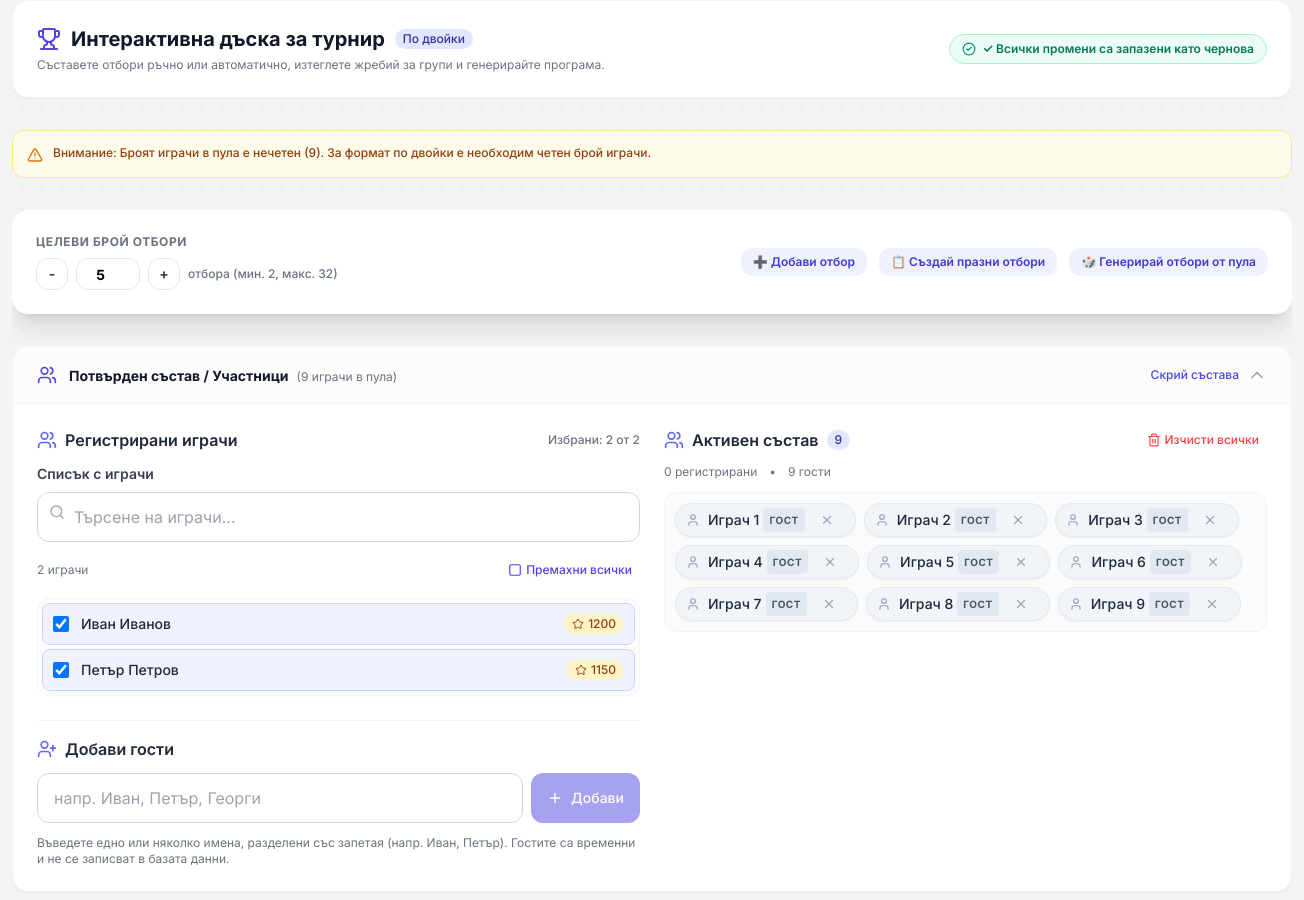
Scenario: TournamentInteractiveBoard Component › Universal Mathematical Validation & Auto-Adjustment › P = 9, T = 5 (Case 4): generates 5 teams with 1 team having 1 slot, draw groups prunes to 4 teams and auto-assigns group with adjustment banner
What coordinates should you click on to do the following:
click the button "🎲 Генерирай отбори от пула"
I would click on:
 (1169, 262)
Its box is [1069,248,1268,276].
(page scrolled)
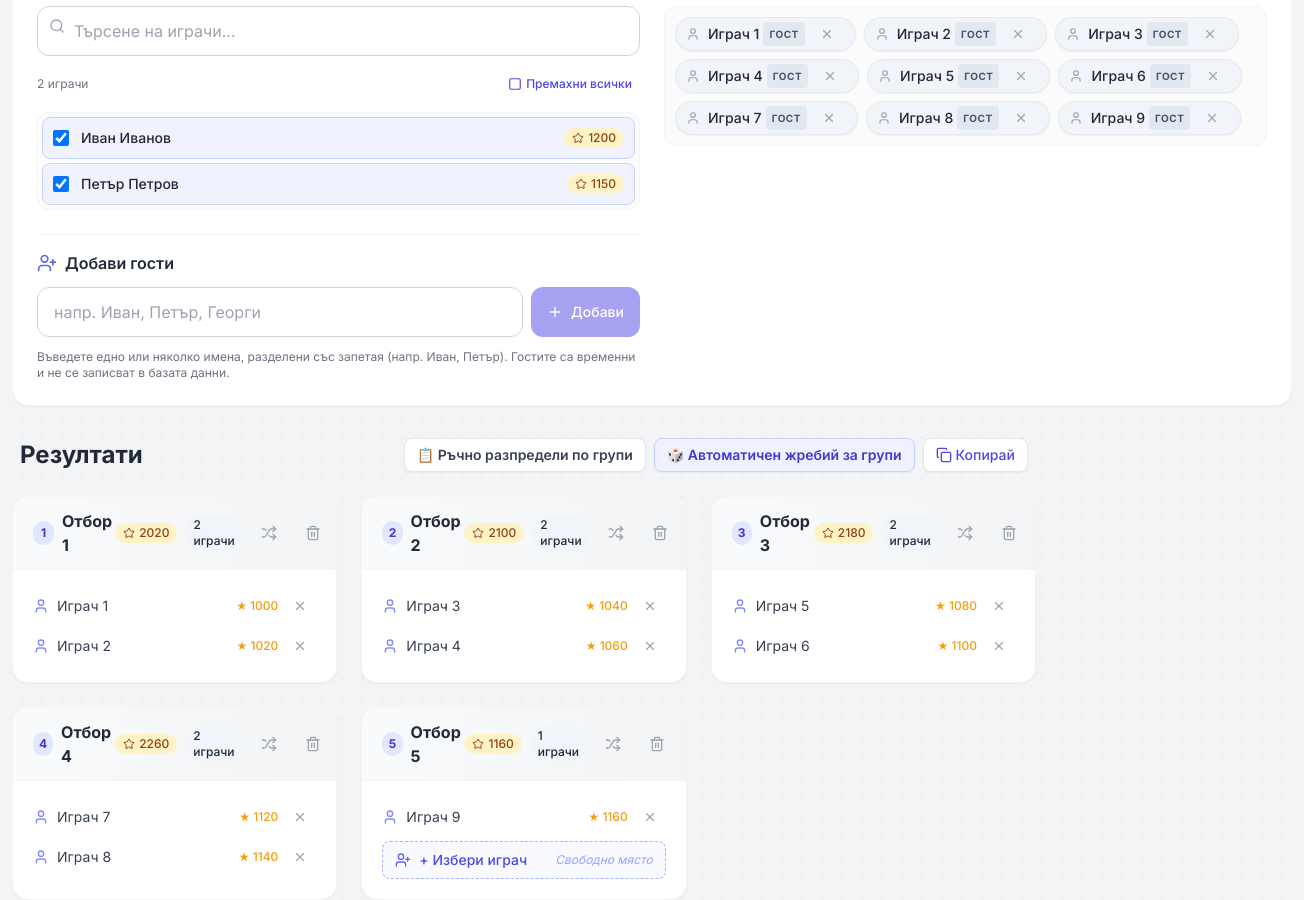
Expected: the heading "5 Отбор 5" is shown, [382,720,464,768]
Expected: the button "🎲 Автоматичен жребий за групи" is enabled
What coordinates should you click on to do the following:
click the button "🎲 Автоматичен жребий за групи"
I would click on:
 (784, 455)
Its box is [654,438,914,472].
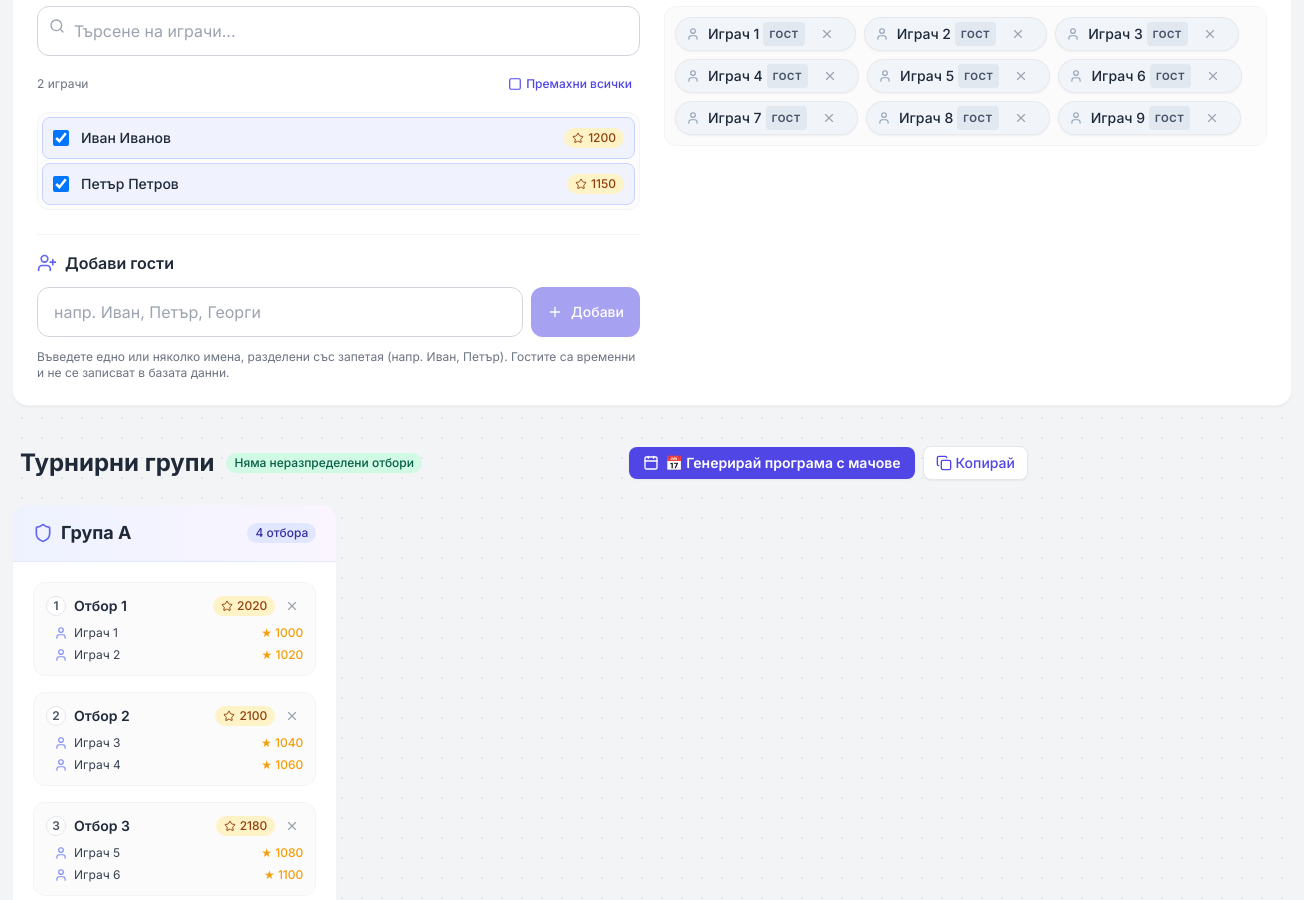
Expected: the text "Група А" is shown, [61,519,132,547]
